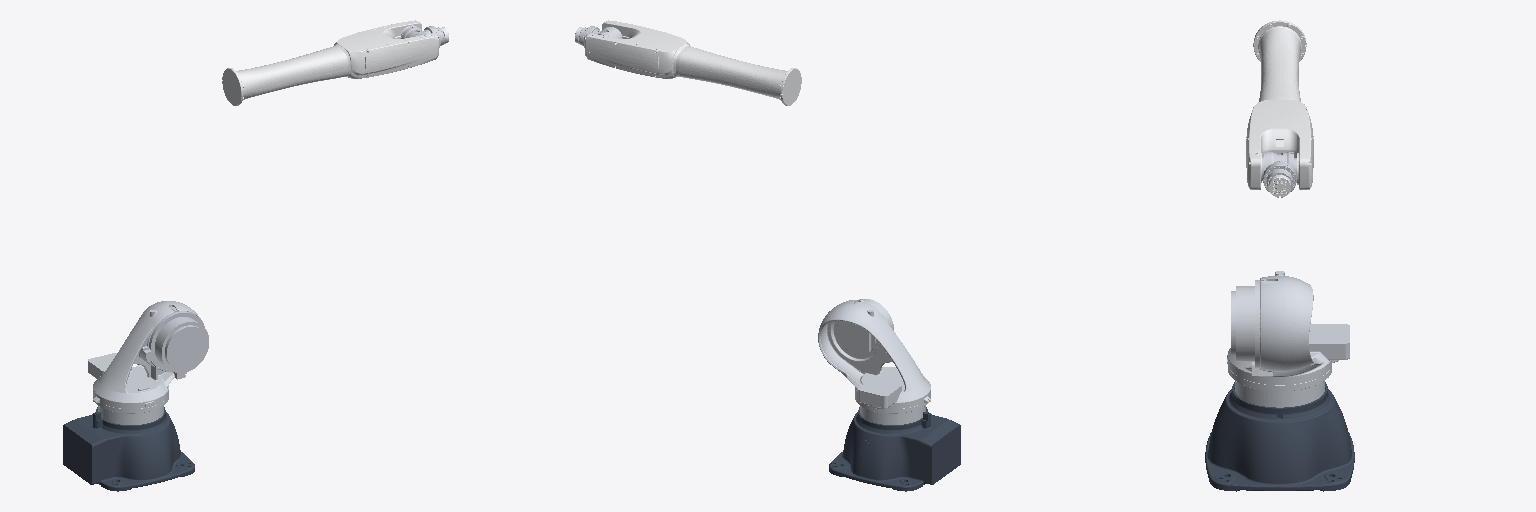
robot.urdf — IR-R16-210S5-D1NH-INT_01741090:
<?xml version="1.0"?>
<!-- Firmware source: params_package/Standard/Body/IR-R16-210S5-D1NH-INT_01741090/IR-R16-210S5-D1NH-INT_01741090.json; SHA256 69982f1f84204bedbe989e6f197fab1523d333733cbac4078695f8c2d39b3e2a. -->
<!-- Z-up; STL mm scaled to m. Effective firmware mass properties are SI and transformed into CAD link frames. -->
<!-- Revolute effort is nominal output torque; prismatic effort is ideal screw force. See physics-audit.json for approximations. -->
<robot name="IR-R16-210S5-D1NH-INT_01741090">
  <link name="base_link">

    <visual name="base">
      <origin xyz="0 0 0" rpy="0 0 0"/>
      <geometry>
        <mesh filename="../models/IR-R16-210/P0.stl" scale="0.001 0.001 0.001"/>
      </geometry>
      <material name="base_material">
        <color rgba="0.31 0.35 0.41 1"/>
      </material>
    </visual>
    <collision name="base_collision">
      <origin xyz="0 0 0" rpy="0 0 0"/>
      <geometry>
        <mesh filename="../models/IR-R16-210/P0.stl" scale="0.001 0.001 0.001"/>
      </geometry>
    </collision>
  </link>

  <link name="link_1">

    <!-- inertial source: bounding-box-fallback -->
    <!-- Effective firmware principal moments are not physically realizable; no unit guessing applied -->
    <inertial>
      <origin xyz="0.070255500793 0.022973098755 0.424749603271" rpy="0 0 0"/>
      <mass value="94.516163097004"/>
      <inertia ixx="2.280728516635" ixy="0" ixz="0" iyy="3.05907174137" iyz="0" izz="2.620261640384"/>
    </inertial>

    <visual name="link_1">
      <origin xyz="0 0 0" rpy="0 0 0"/>
      <geometry>
        <mesh filename="../models/IR-R16-210/P1.stl" scale="0.001 0.001 0.001"/>
      </geometry>
      <material name="link_1_material">
        <color rgba="0.84 0.86 0.89 1"/>
      </material>
    </visual>
    <collision name="link_1_collision">
      <origin xyz="0 0 0" rpy="0 0 0"/>
      <geometry>
        <mesh filename="../models/IR-R16-210/P1.stl" scale="0.001 0.001 0.001"/>
      </geometry>
    </collision>
  </link>

  <link name="link_2">

    <!-- inertial source: bounding-box-fallback -->
    <!-- Effective firmware principal moments are not physically realizable; no unit guessing applied -->
    <inertial>
      <origin xyz="0.000000106812 -0.1675 0.416503616333" rpy="0 0 0"/>
      <mass value="37.779"/>
      <inertia ixx="3.654849736376" ixy="0" ixz="0" iyy="3.675276659133" iyz="0" izz="0.295464339257"/>
    </inertial>

    <visual name="link_2">
      <origin xyz="-0.17 0 -0.5" rpy="0 0 0"/>
      <geometry>
        <mesh filename="../models/IR-R16-210/P2.stl" scale="0.001 0.001 0.001"/>
      </geometry>
      <material name="link_2_material">
        <color rgba="0.94 0.95 0.96 1"/>
      </material>
    </visual>
    <collision name="link_2_collision">
      <origin xyz="-0.17 0 -0.5" rpy="0 0 0"/>
      <geometry>
        <mesh filename="../models/IR-R16-210/P2.stl" scale="0.001 0.001 0.001"/>
      </geometry>
    </collision>
  </link>

  <link name="link_3">

    <!-- inertial source: firmware-effective-si -->
    <inertial>
      <origin xyz="0.046010158479 0.024848235007 0.054347216483" rpy="0 0 0"/>
      <mass value="40.5444"/>
      <inertia ixx="0.492541510386" ixy="0" ixz="0" iyy="0.420771135851" iyz="0" izz="0.517760491282"/>
    </inertial>

    <visual name="link_3">
      <origin xyz="-0.17 0 -1.34" rpy="0 0 0"/>
      <geometry>
        <mesh filename="../models/IR-R16-210/P3.stl" scale="0.001 0.001 0.001"/>
      </geometry>
      <material name="link_3_material">
        <color rgba="0.84 0.86 0.89 1"/>
      </material>
    </visual>
    <collision name="link_3_collision">
      <origin xyz="-0.17 0 -1.34" rpy="0 0 0"/>
      <geometry>
        <mesh filename="../models/IR-R16-210/P3.stl" scale="0.001 0.001 0.001"/>
      </geometry>
    </collision>
  </link>

  <link name="link_4">

    <!-- inertial source: bounding-box-fallback -->
    <!-- Effective firmware principal moments are not physically realizable; no unit guessing applied -->
    <inertial>
      <origin xyz="0.707549377441 -0.000000137329 0.00000012207" rpy="0 0 0"/>
      <mass value="18.292904751917"/>
      <inertia ixx="0.087041168809" ixy="0" ixz="0" iyy="1.184376626942" iyz="0" izz="1.205535899286"/>
    </inertial>

    <visual name="link_4">
      <origin xyz="-0.17 0 -1.48" rpy="0 0 0"/>
      <geometry>
        <mesh filename="../models/IR-R16-210/P4.stl" scale="0.001 0.001 0.001"/>
      </geometry>
      <material name="link_4_material">
        <color rgba="0.94 0.95 0.96 1"/>
      </material>
    </visual>
    <collision name="link_4_collision">
      <origin xyz="-0.17 0 -1.48" rpy="0 0 0"/>
      <geometry>
        <mesh filename="../models/IR-R16-210/P4.stl" scale="0.001 0.001 0.001"/>
      </geometry>
    </collision>
  </link>

  <link name="link_5">

    <!-- inertial source: bounding-box-fallback -->
    <!-- Effective firmware principal moments are not physically realizable; no unit guessing applied -->
    <inertial>
      <origin xyz="0.02875 -0.00375 -0.001252319336" rpy="0 0 0"/>
      <mass value="3.383428540702"/>
      <inertia ixx="0.005527844276" ixy="0" ixz="0" iyy="0.009237209766" iyz="0" izz="0.00940494451"/>
    </inertial>

    <visual name="link_5">
      <origin xyz="-1.258 0 -1.48" rpy="0 0 0"/>
      <geometry>
        <mesh filename="../models/IR-R16-210/P5.stl" scale="0.001 0.001 0.001"/>
      </geometry>
      <material name="link_5_material">
        <color rgba="0.84 0.86 0.89 1"/>
      </material>
    </visual>
    <collision name="link_5_collision">
      <origin xyz="-1.258 0 -1.48" rpy="0 0 0"/>
      <geometry>
        <mesh filename="../models/IR-R16-210/P5.stl" scale="0.001 0.001 0.001"/>
      </geometry>
    </collision>
  </link>

  <link name="link_6">

    <!-- inertial source: firmware-effective-si -->
    <inertial>
      <origin xyz="-0.00366 0.0000134 0.00000142" rpy="0 0 0"/>
      <mass value="1.166370436744"/>
      <inertia ixx="0.000707189158" ixy="0" ixz="0" iyy="0.0006716" iyz="0" izz="0.0006717"/>
    </inertial>

    <visual name="link_6">
      <origin xyz="-1.381 0 -1.48" rpy="0 0 0"/>
      <geometry>
        <mesh filename="../models/IR-R16-210/P6.stl" scale="0.001 0.001 0.001"/>
      </geometry>
      <material name="link_6_material">
        <color rgba="0.94 0.95 0.96 1"/>
      </material>
    </visual>
    <collision name="link_6_collision">
      <origin xyz="-1.381 0 -1.48" rpy="0 0 0"/>
      <geometry>
        <mesh filename="../models/IR-R16-210/P6.stl" scale="0.001 0.001 0.001"/>
      </geometry>
    </collision>
  </link>

  <joint name="J1" type="revolute">
    <parent link="base_link"/>
    <child link="link_1"/>
    <origin xyz="0 0 0" rpy="0 0 0"/>
    <axis xyz="0 0 1"/>
    <limit lower="-2.96705972839" upper="2.96705972839" effort="1062.3634875" velocity="3.316125578789"/>
  </joint>

  <joint name="J2" type="revolute">
    <parent link="link_1"/>
    <child link="link_2"/>
    <origin xyz="0.17 0 0.5" rpy="0 0 0"/>
    <axis xyz="0 -1 0"/>
    <limit lower="-2.705260340591" upper="1.396263401595" effort="1537.55" velocity="3.05432619099"/>
  </joint>

  <joint name="J3" type="revolute">
    <parent link="link_2"/>
    <child link="link_3"/>
    <origin xyz="0 0 0.84" rpy="0 0 0"/>
    <axis xyz="0 -1 0"/>
    <limit lower="-1.308996938996" upper="2.792526803191" effort="693.33" velocity="3.490658503989"/>
  </joint>

  <joint name="J4" type="revolute">
    <parent link="link_3"/>
    <child link="link_4"/>
    <origin xyz="0 0 0.14" rpy="0 0 0"/>
    <axis xyz="1 0 0"/>
    <limit lower="-3.14159265359" upper="3.14159265359" effort="97.7265" velocity="6.981317007977"/>
  </joint>

  <joint name="J5" type="revolute">
    <parent link="link_4"/>
    <child link="link_5"/>
    <origin xyz="1.088 0 0" rpy="0 0 0"/>
    <axis xyz="0 -1 0"/>
    <limit lower="-2.443460952792" upper="2.443460952792" effort="120.31578934" velocity="6.28318530718"/>
  </joint>

  <joint name="J6" type="revolute">
    <parent link="link_5"/>
    <child link="link_6"/>
    <origin xyz="0.123 0 0" rpy="0 0 0"/>
    <axis xyz="1 0 0"/>
    <limit lower="-6.28318530718" upper="6.28318530718" effort="36" velocity="10.646508437165"/>
  </joint>

  <link name="tool0"/>
  <joint name="tool0_fixed" type="fixed">
    <parent link="link_6"/>
    <child link="tool0"/>
    <origin xyz="0 0 0" rpy="3.14159265359 -1.570796326795 0"/>
  </joint>
</robot>

--- Facts derived from the render (not from the file) ---
3 views of the same robot in one strip: view 1: azimuth 30°, elevation 25°; view 2: azimuth 150°, elevation 25°; view 3: azimuth 270°, elevation 25° (orthographic).
Robot: IR-R16-210S5-D1NH-INT_01741090 — 8 links, 7 joints (6 revolute, 1 fixed); root link base_link; default pose: every joint at zero.
Links seen in each view (by area): view 1: link_1, link_4, base_link; view 2: link_1, link_4, base_link; view 3: base_link, link_1, link_4, link_5.
Boxes of the visible links, <box> form: link_1: <box>88,301,208,424</box>; link_4: <box>222,20,439,105</box>; base_link: <box>63,407,194,491</box>; link_1: <box>818,299,930,424</box>; link_4: <box>584,20,801,105</box>; base_link: <box>829,407,960,491</box>; base_link: <box>1205,382,1354,491</box>; link_1: <box>1227,271,1349,407</box>; link_4: <box>1246,20,1313,189</box>; link_5: <box>1262,152,1296,191</box>.
Size in the robot's own frame: 1.62 by 0.4133 by 1.55 metres.
Meshes: 7 distinct files referenced, 5 mesh visuals loaded (5 binary STL); not drawn: 2 (reference not matched to a file when rendering).
